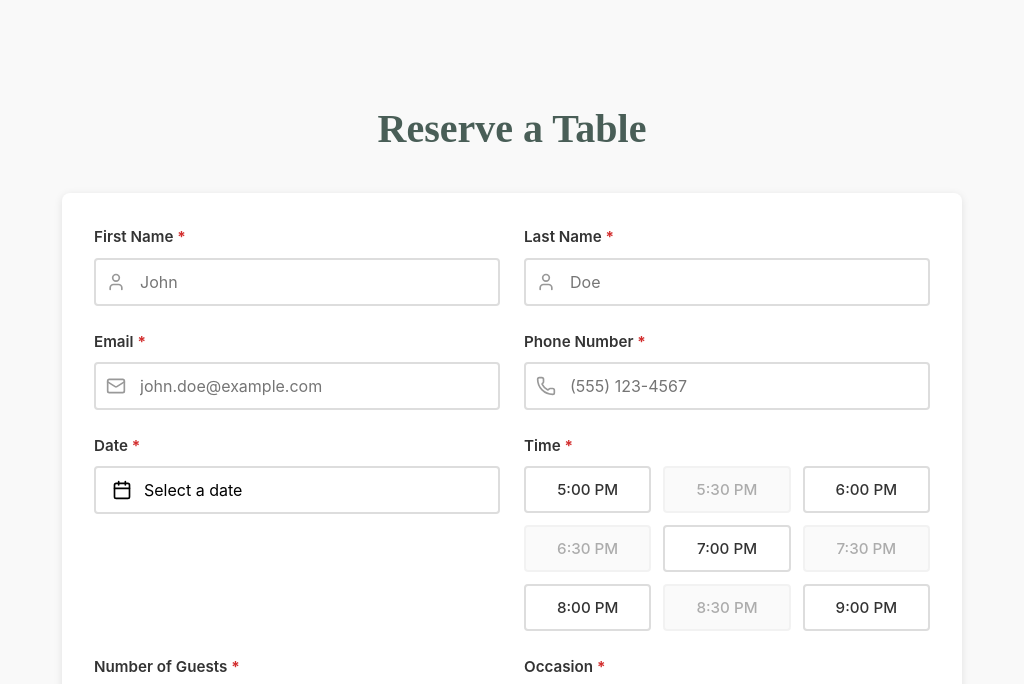
Test: BookingForm Component › shows validation error for invalid phone number
This screenshot has width=1024, height=684.
In the field labelled "Phone Number *": (727, 386) [524,362,930,410], type "123"
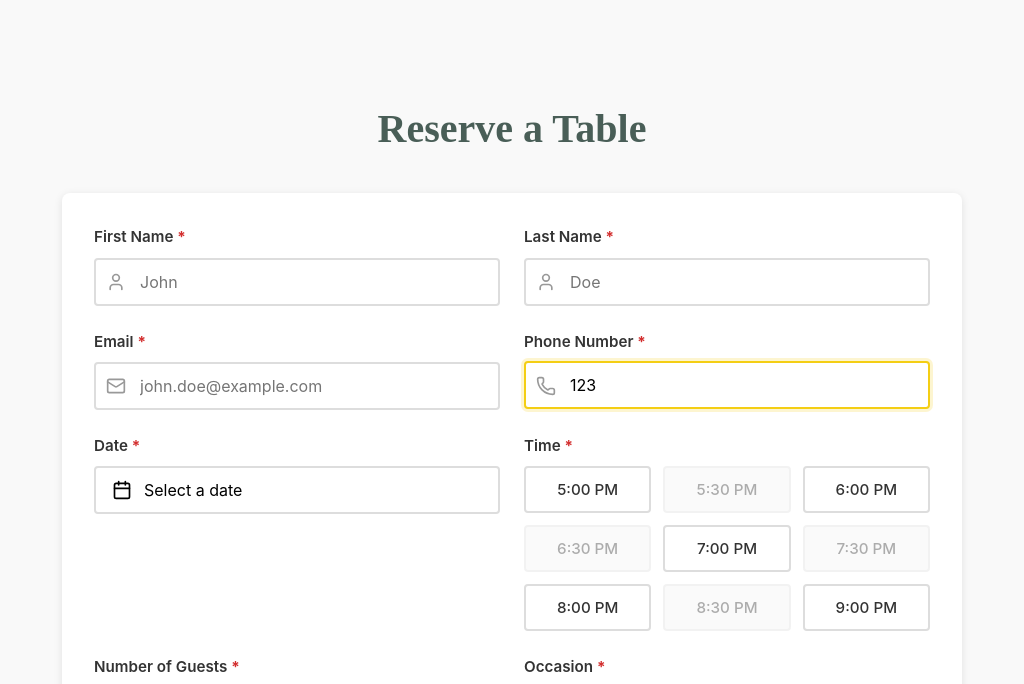
Press Tab
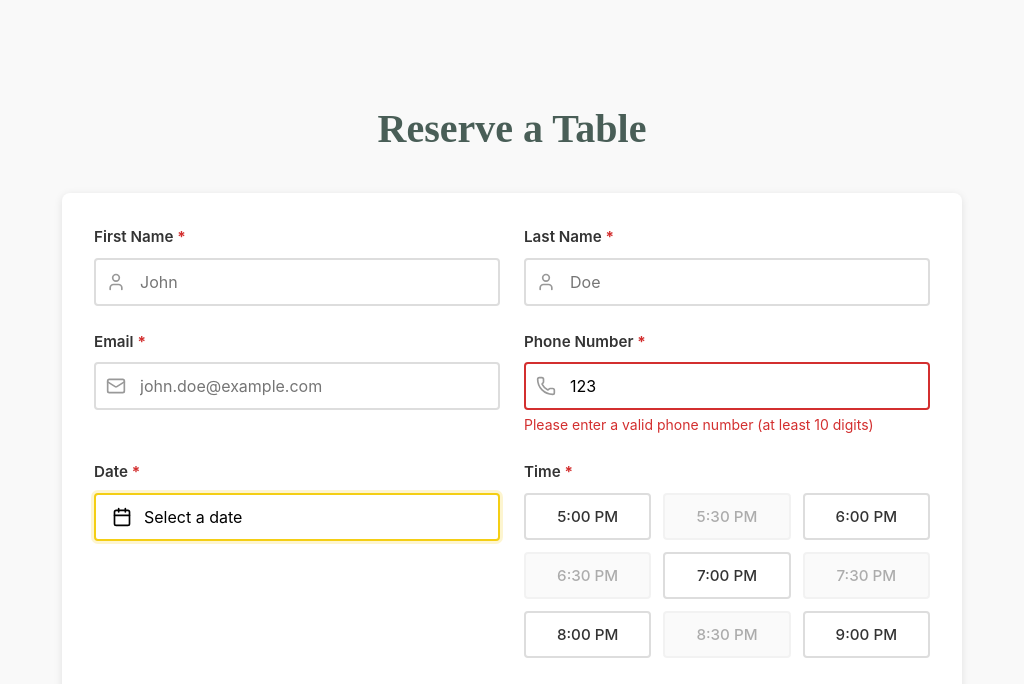
Expected: the text "Please enter a valid phone number (at least 10 digits)" is shown, [524,414,930,436]
